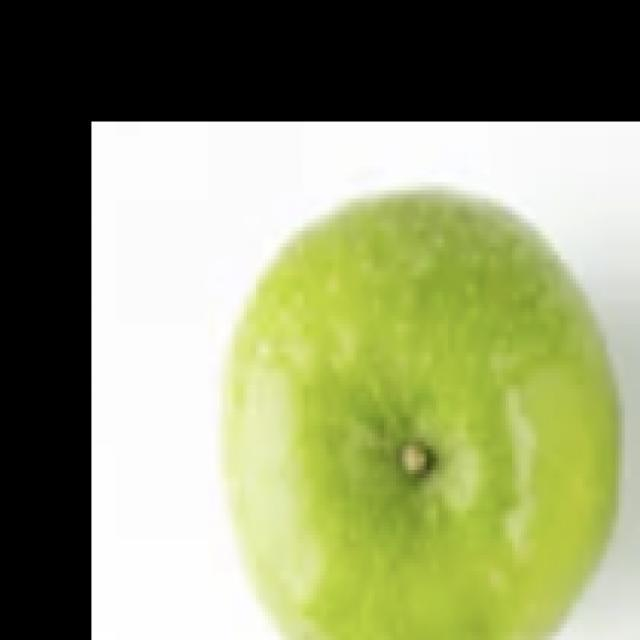Fresh Apple: (236, 206, 636, 640)
